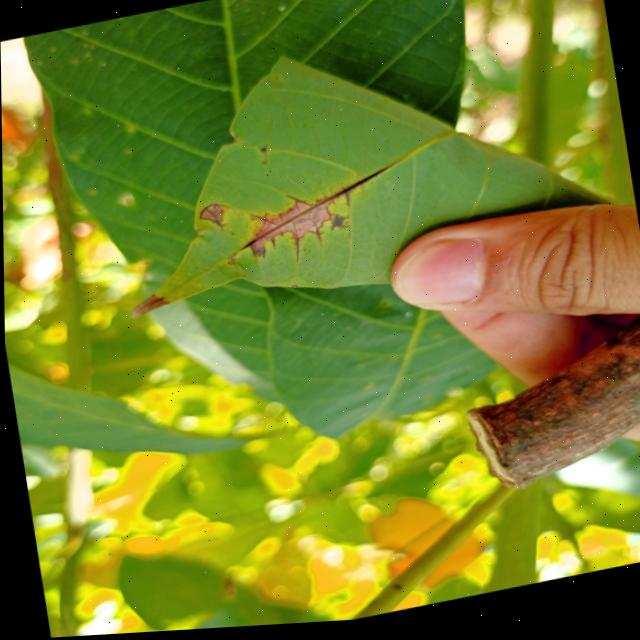Corynespora: (235, 171, 398, 278), (195, 203, 233, 237), (324, 217, 350, 238)
